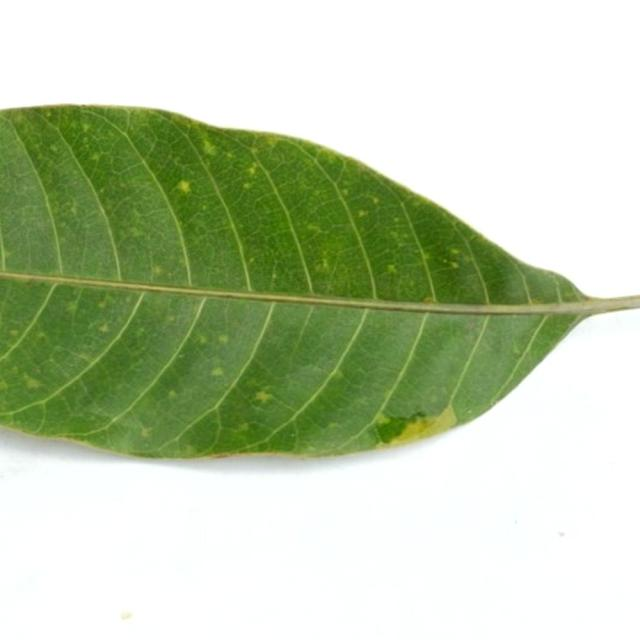Mango: (0, 106, 639, 456)
Powdery_Mildew: (176, 173, 196, 199), (558, 285, 582, 304), (406, 410, 429, 427), (23, 374, 42, 389), (262, 133, 281, 147), (441, 257, 459, 269), (12, 112, 26, 125), (254, 391, 270, 402), (203, 144, 216, 156), (247, 162, 259, 175), (332, 368, 345, 380), (182, 443, 196, 454), (151, 265, 164, 276), (376, 415, 390, 425), (140, 427, 152, 438), (419, 251, 431, 262), (2, 248, 12, 261), (130, 228, 143, 238), (196, 334, 207, 345), (218, 334, 230, 344), (529, 297, 544, 305), (211, 368, 224, 377), (387, 264, 398, 274), (67, 302, 78, 312), (167, 389, 178, 399), (247, 379, 259, 388), (178, 256, 188, 266), (98, 324, 109, 333), (36, 331, 47, 340), (238, 422, 249, 431), (68, 204, 77, 215), (423, 296, 435, 304), (81, 123, 91, 132), (90, 152, 100, 161), (513, 345, 522, 355), (390, 229, 400, 238), (0, 380, 9, 390), (135, 327, 145, 336), (307, 224, 318, 232), (9, 329, 20, 337), (357, 209, 367, 217), (97, 300, 107, 308), (450, 248, 461, 255), (328, 422, 339, 429), (243, 182, 252, 190), (321, 259, 329, 268), (250, 147, 259, 155), (50, 145, 59, 153), (372, 196, 380, 204), (225, 152, 234, 159), (342, 188, 349, 196), (167, 315, 175, 322), (307, 445, 316, 451), (248, 257, 255, 264), (393, 216, 400, 223), (466, 408, 473, 415)
